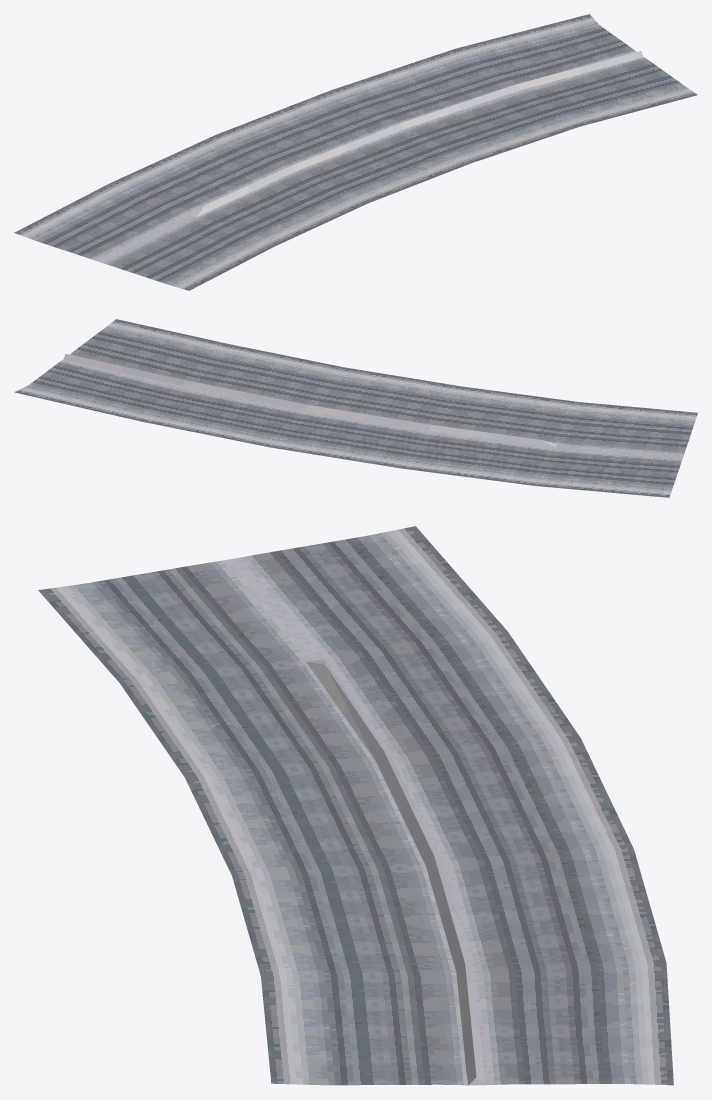
The model's file is lodasnroad096.obj.
3 views of the same model, one above another, from view 1: azimuth 30°, elevation 25°; view 2: azimuth 150°, elevation 25°; view 3: azimuth 270°, elevation 25° (orthographic). The views are drawn at different scales.
Visible parts, largest first — view 1: lodasNroad096; view 2: lodasNroad096; view 3: lodasNroad096.
Boxes of the visible parts, box(x1,y1,x2,y2) form: lodasNroad096: box(14, 14, 697, 290); lodasNroad096: box(14, 319, 697, 497); lodasNroad096: box(38, 526, 673, 1085).
Bounding box in the file's own units: 134 × 2.72 × 62.6.
Materials: 1 (1 with a texture image).
